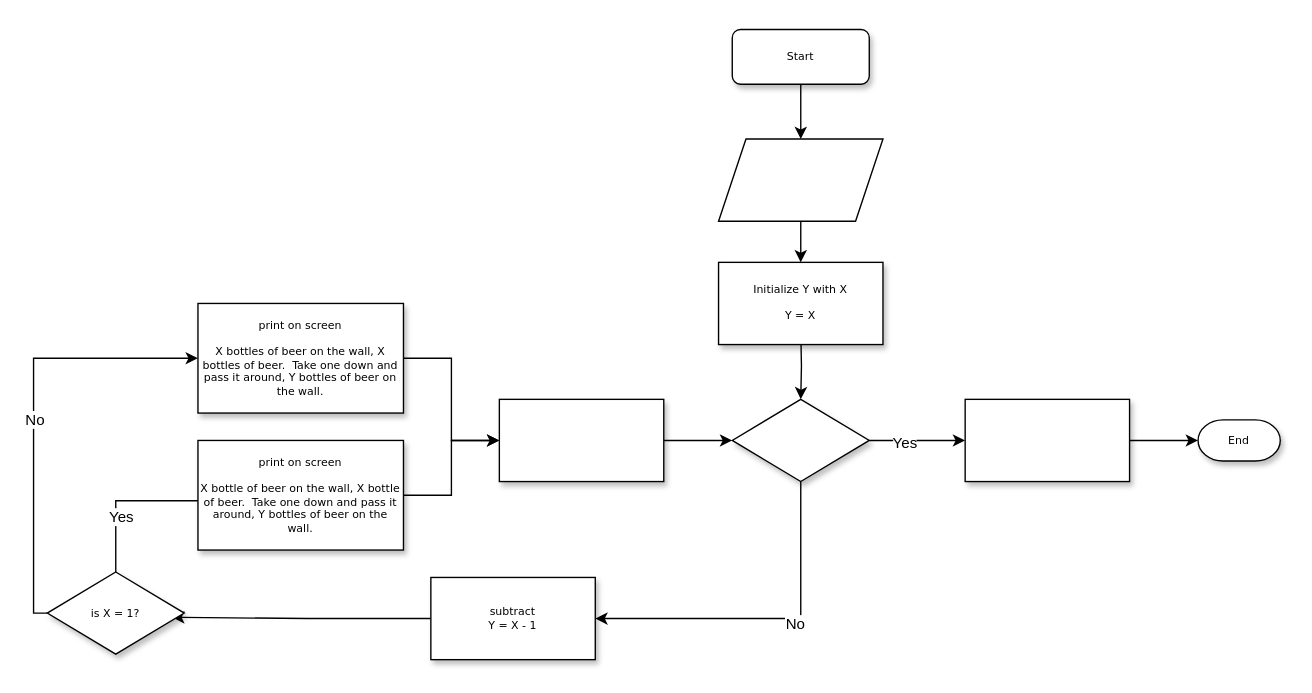
Some shapes in this 1312 by 693 pixel diagram are drawn without their labels. The shapes that lost their labels are listed below. From the top down, each one's centre as x and y in pixels, then its label:
the point at 800,179: Enter number of bottles: X = int(input())
the point at 582,442: Update X value with Y X = Y
the point at 801,442: is X less then 1 ?
the point at 1048,442: print on screen "Time to buy more bottles of beer"
